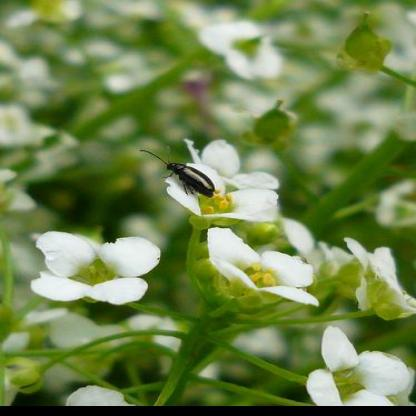beetle: (135, 142, 224, 194)
